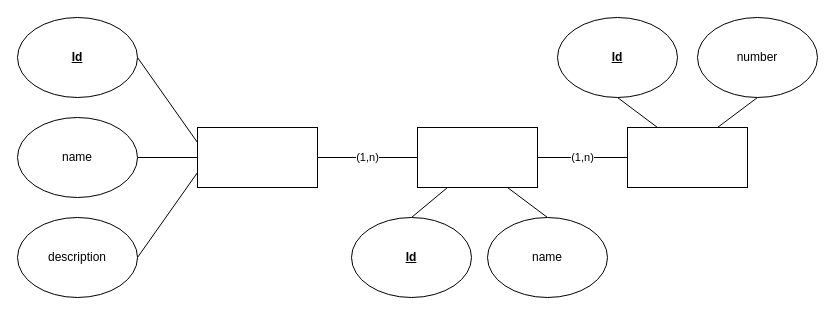
Image size: 835x315. Some labels were removed from this diagram. Each missing label, with the box of its shape:
Bock: (196, 126, 318, 188)
charapter: (416, 126, 538, 188)
page: (626, 126, 748, 188)
